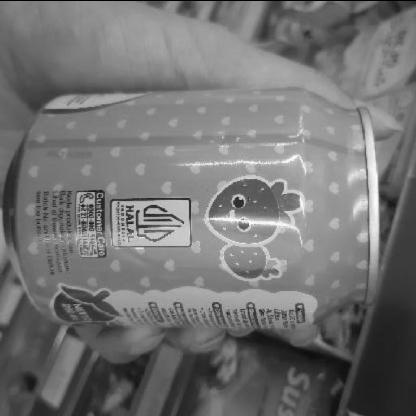alumunium_can: (9, 78, 387, 343)
